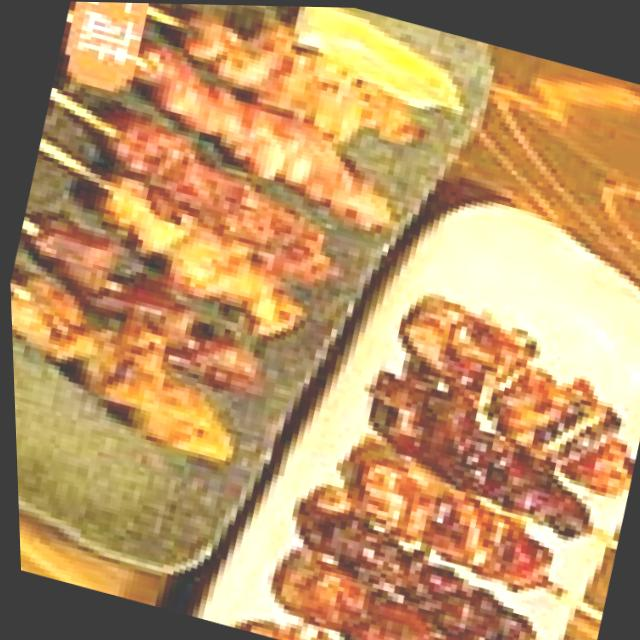烧串烤肉: (245, 260, 640, 640)
